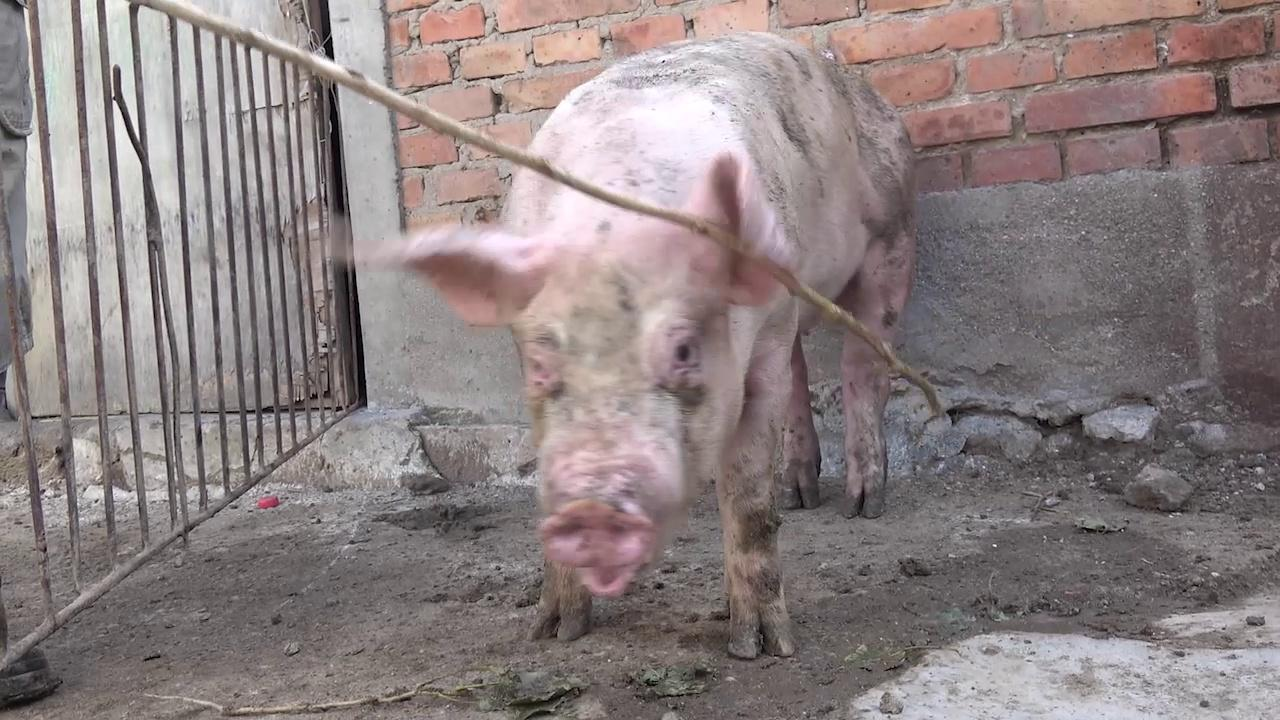Face: (355, 153, 809, 601)
